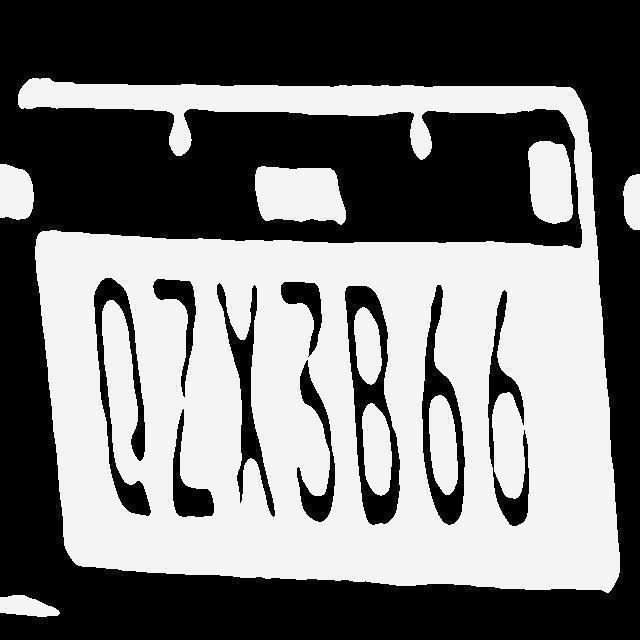3: (272, 271, 338, 529)
6: (478, 284, 539, 526), (412, 281, 468, 538)
b: (342, 280, 403, 528)
q: (83, 269, 152, 529)
x: (210, 272, 268, 524)
z: (156, 269, 212, 535)
